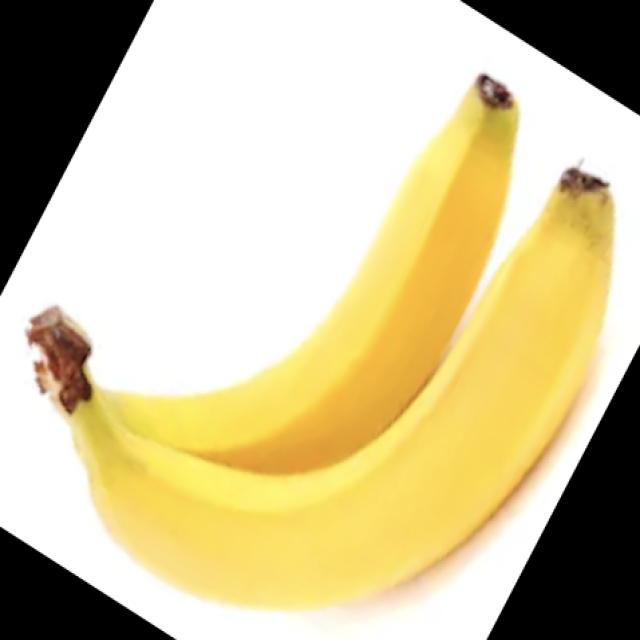god quality banana: (27, 74, 616, 608)
